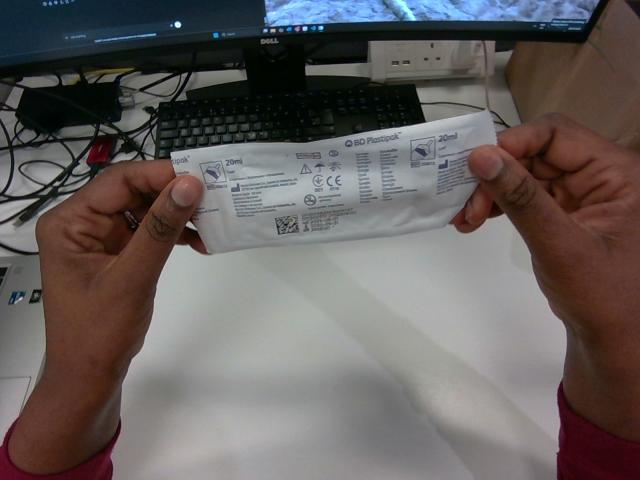syringe: (172, 111, 495, 252)
